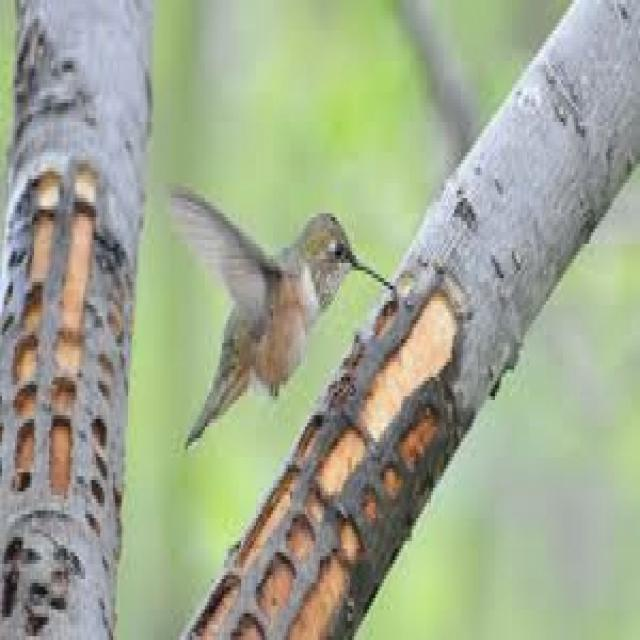hummingbird: (171, 187, 393, 442)
